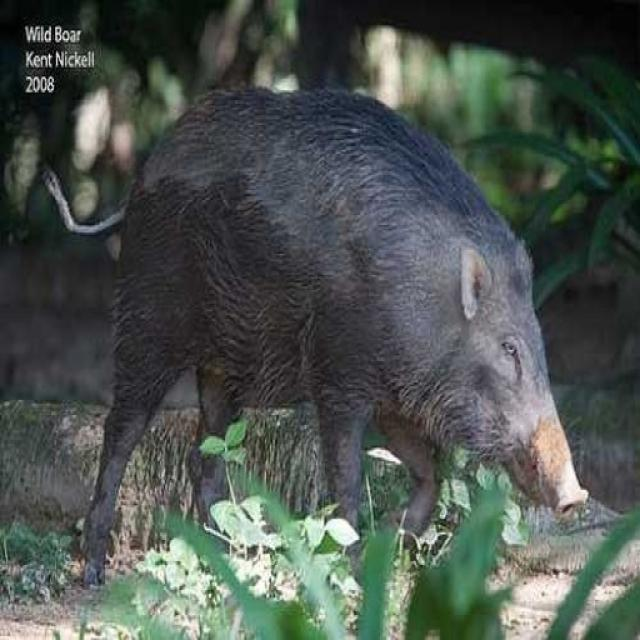pig: (124, 68, 600, 528)
